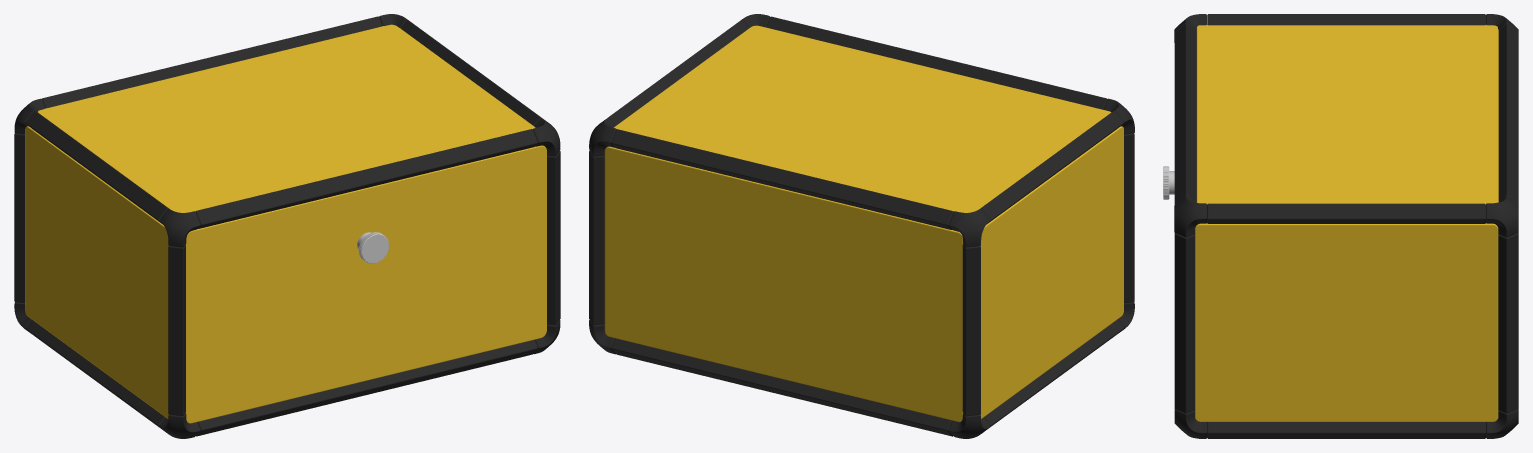
3 renders of one model, left to right at view 1: azimuth 30°, elevation 25°; view 2: azimuth 150°, elevation 25°; view 3: azimuth 270°, elevation 25°, orthographic. The views are drawn at different scales.
Parts seen in each view (by area): view 1: 479x329x229; view 2: 479x329x229; view 3: 479x329x229.
Part boxes in pixels (left/top/right/bottom): 479x329x229: left=14, top=14, right=560, bottom=438; 479x329x229: left=589, top=14, right=1134, bottom=438; 479x329x229: left=1163, top=14, right=1518, bottom=438.
Size of the model in its own units: 0.5567 by 0.3066 by 0.4196.
